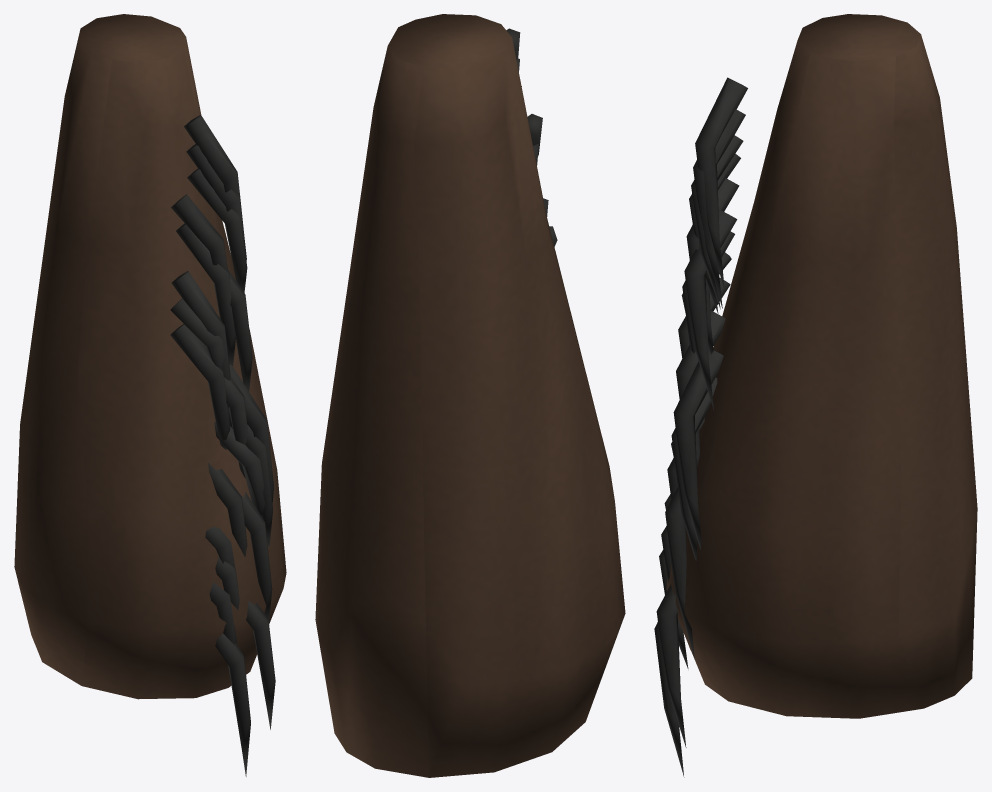
File: neck_lod1.glb
The picture shows the model from 3 angles, left to right: view 1: azimuth 30°, elevation 25°; view 2: azimuth 150°, elevation 25°; view 3: azimuth 270°, elevation 25°; orthographic projection. The views are drawn at different scales.
Parts seen in each view (by area): view 1: agro_neck_LOD1; view 2: agro_neck_LOD1; view 3: agro_neck_LOD1.
Boxes of the visible parts, x1,y1,x2,y2 form: agro_neck_LOD1: [14, 14, 286, 776]; agro_neck_LOD1: [315, 14, 625, 777]; agro_neck_LOD1: [654, 14, 977, 777].
Bounding box in the file's own units: 0.43 × 1.23 × 0.498.
Materials: 2 (2 with a texture image).
